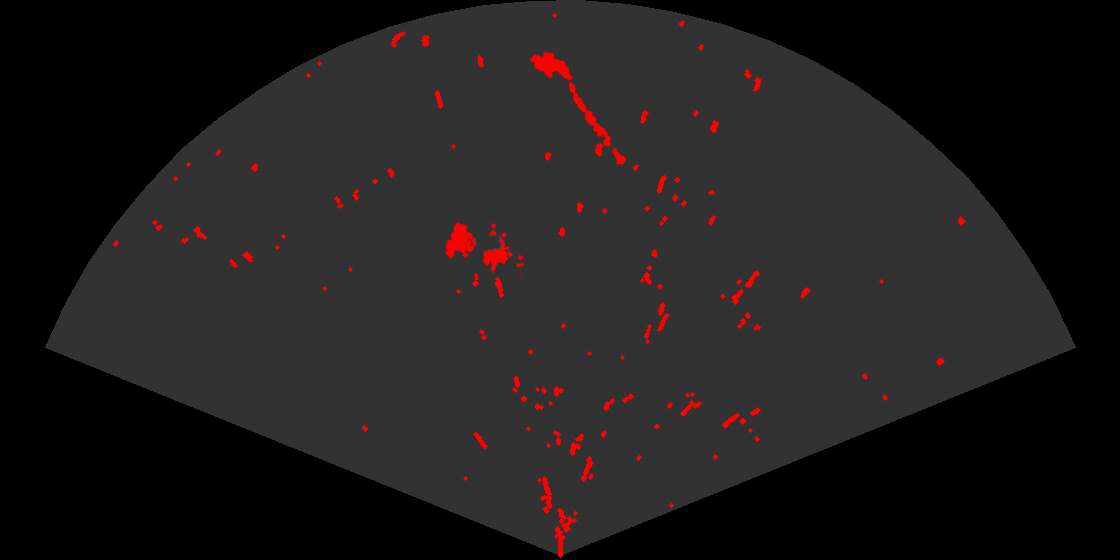AUV: (529, 50, 574, 82)
cage: (443, 221, 524, 280)
chain: (567, 81, 628, 166)
